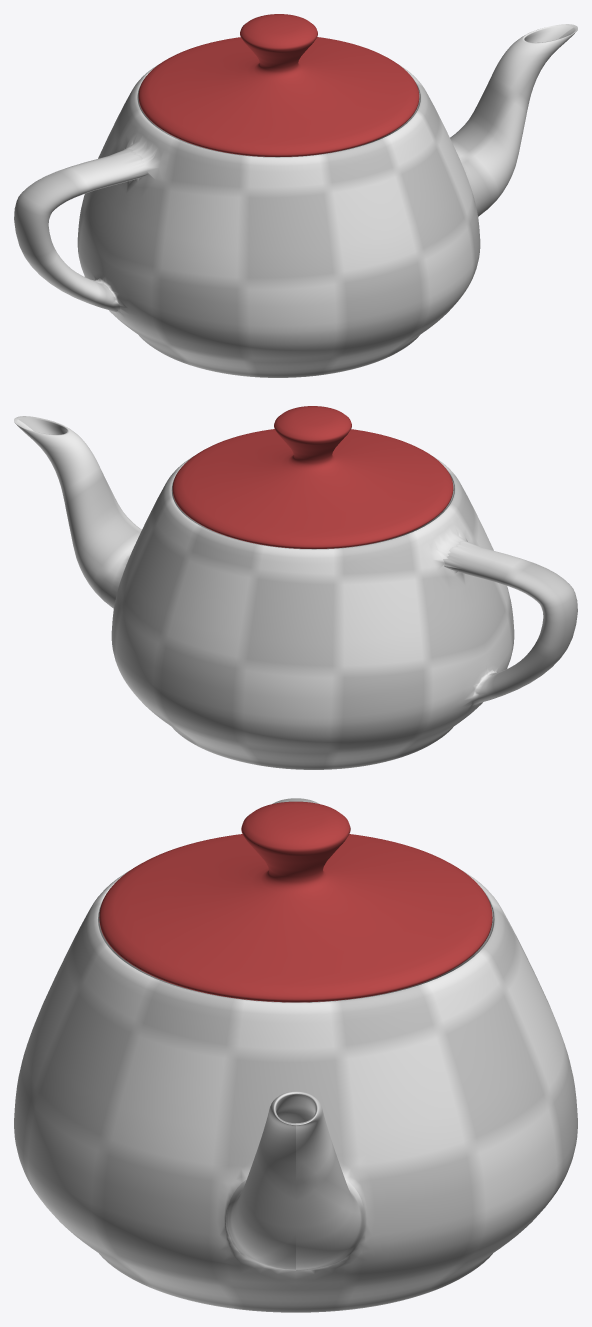
File: teapot.obj
3 views of the same model, one above another, from view 1: azimuth 30°, elevation 25°; view 2: azimuth 150°, elevation 25°; view 3: azimuth 270°, elevation 25° (orthographic). The views are drawn at different scales.
Visible parts, largest first — view 1: teapot:Base, teapot:Top; view 2: teapot:Base, teapot:Top; view 3: teapot:Base, teapot:Top.
Part boxes in pixels (<box>): teapot:Base: <box>14,24,577,377</box>; teapot:Top: <box>138,14,419,156</box>; teapot:Base: <box>14,416,577,769</box>; teapot:Top: <box>172,406,453,548</box>; teapot:Base: <box>14,798,577,1312</box>; teapot:Top: <box>99,801,492,1002</box>.
Size of the model in its own units: 153 by 78.98 by 95.47.
2 materials, 1 textured.
